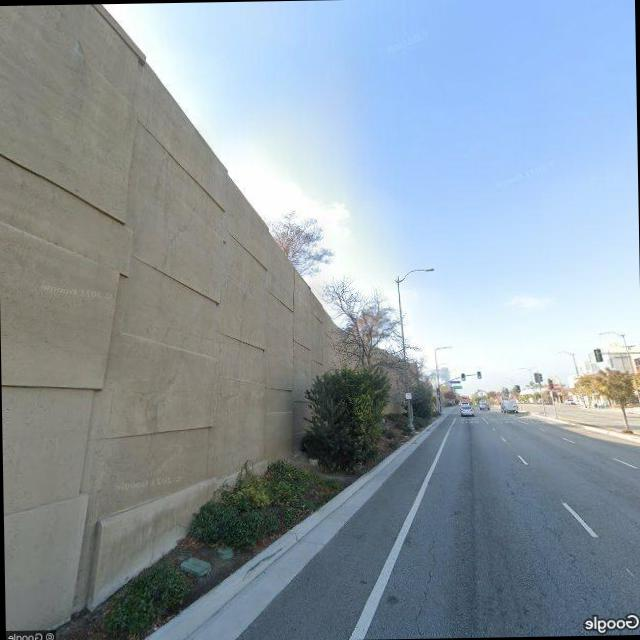pothole: (408, 532, 446, 638)
